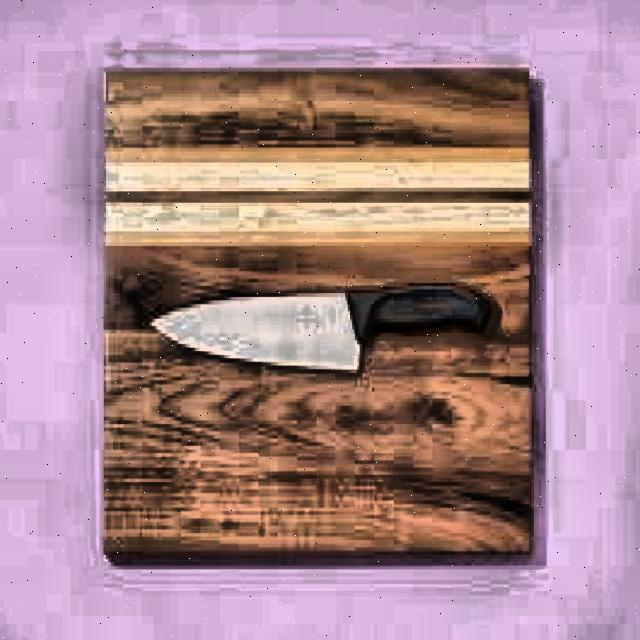knife: (150, 280, 513, 382)
